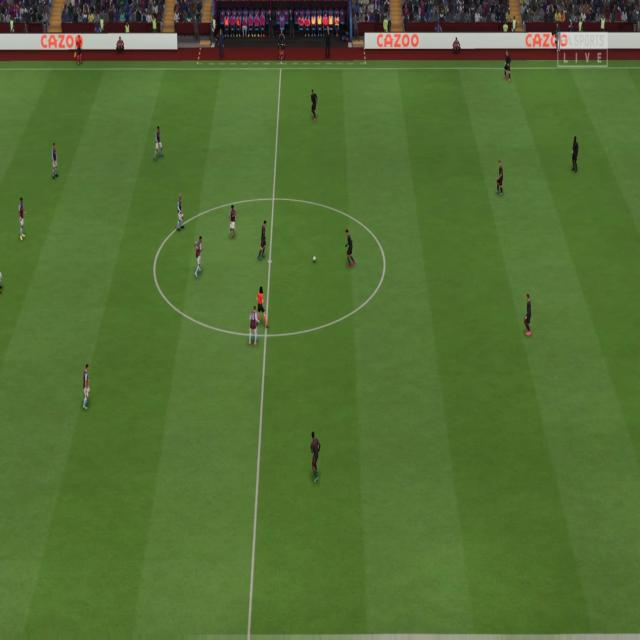Ball: (312, 254, 318, 264)
Referee: (253, 286, 270, 330)
Team-A: (310, 432, 322, 484), (343, 228, 357, 270), (524, 294, 535, 337), (571, 136, 581, 174), (497, 161, 506, 195), (502, 50, 512, 80), (310, 89, 318, 121)
Team-H: (248, 304, 263, 346), (192, 235, 205, 280), (258, 220, 270, 260), (81, 365, 91, 412), (16, 197, 26, 242), (50, 144, 60, 181), (174, 195, 184, 231), (228, 207, 238, 240), (154, 126, 164, 158), (0, 254, 7, 294)
